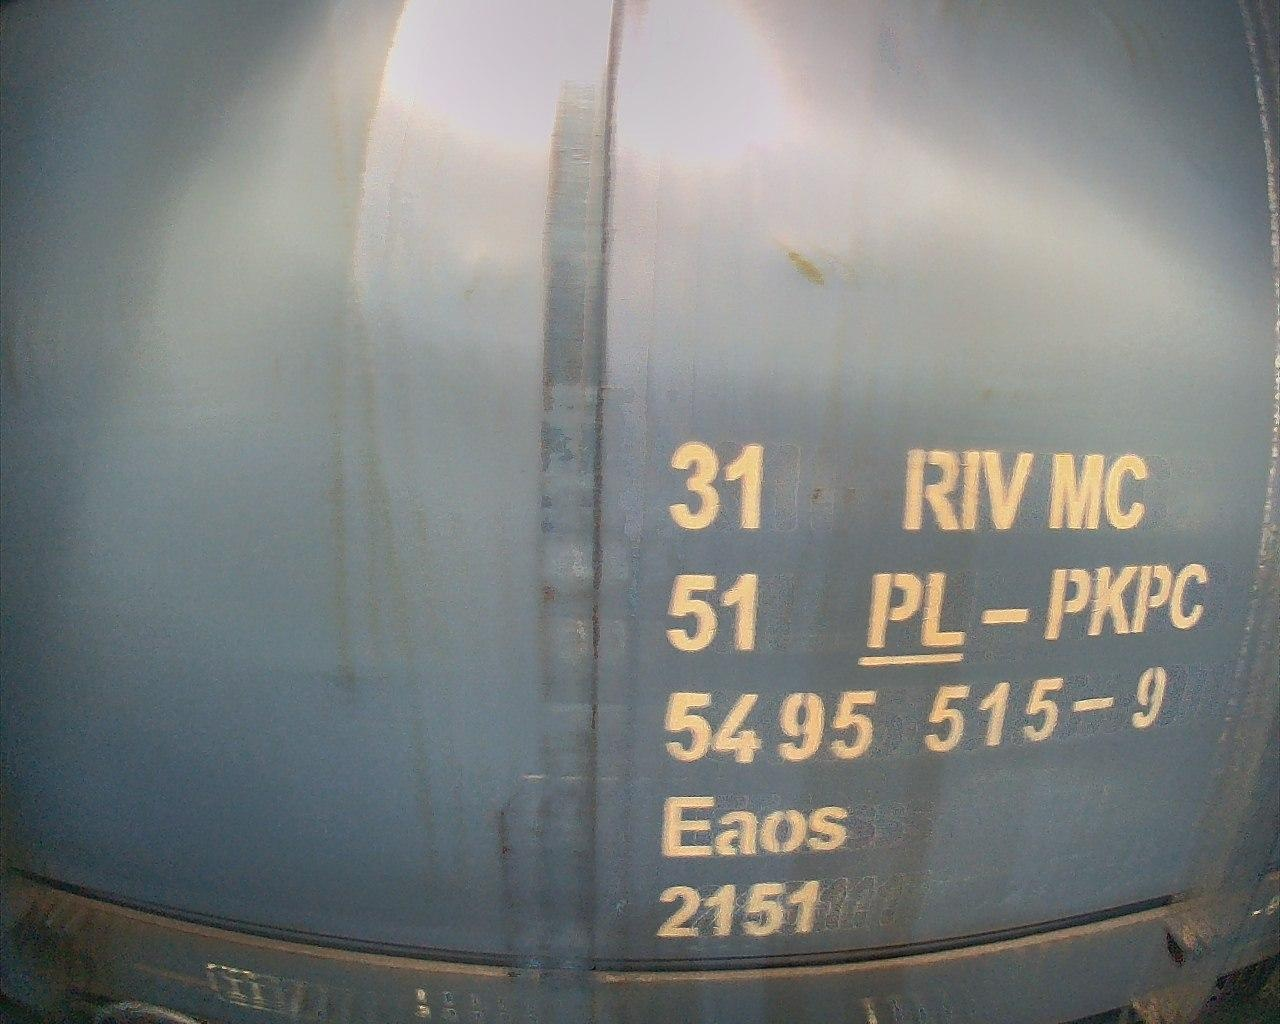UIC: (660, 435, 1210, 944)
